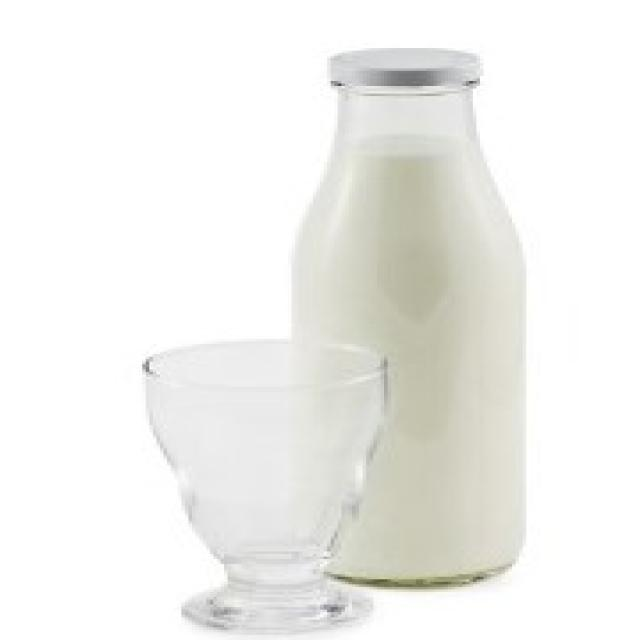electronic: (118, 42, 524, 640)
